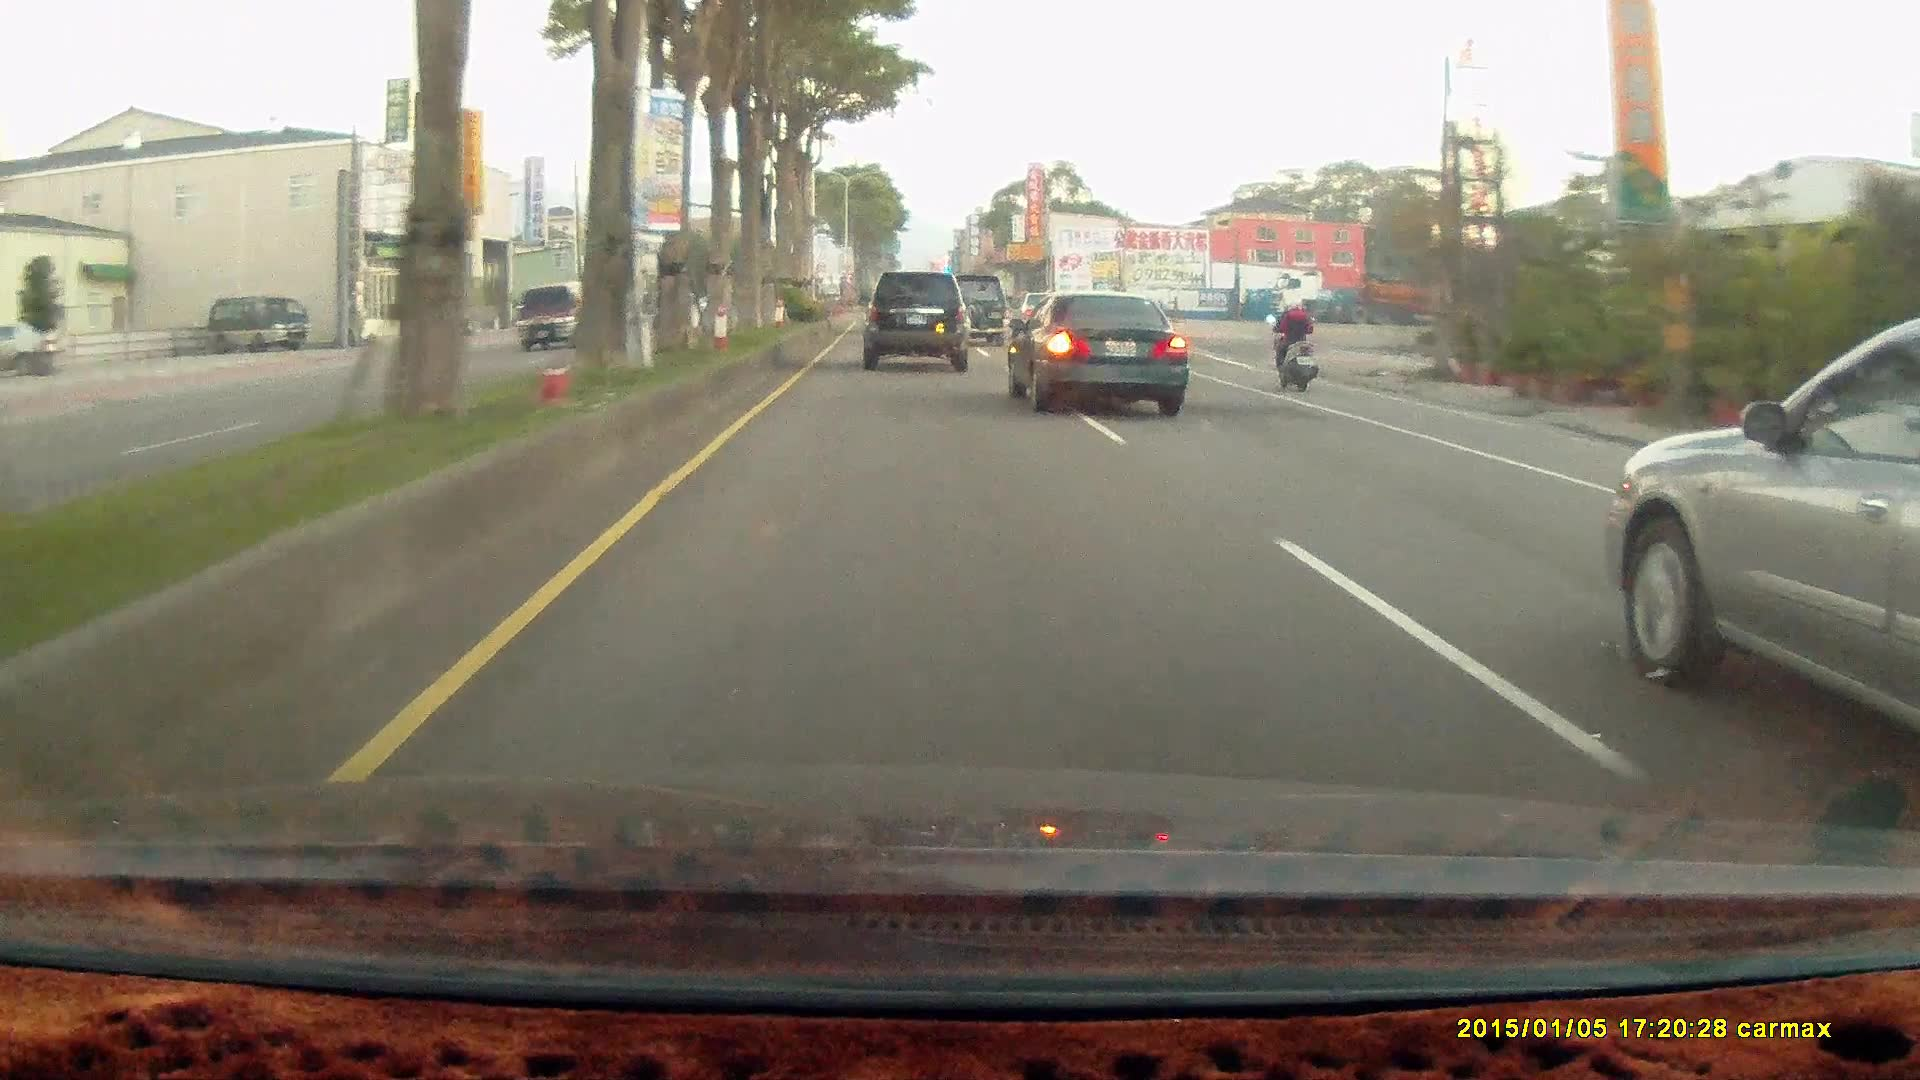rider: (1257, 285, 1330, 399), (1266, 289, 1320, 391)
vehicle: (1604, 310, 1919, 762), (1006, 288, 1193, 412), (1006, 290, 1189, 417), (1275, 264, 1516, 321), (861, 267, 974, 370), (858, 270, 967, 369), (206, 295, 308, 352), (206, 295, 309, 350), (514, 284, 591, 352), (944, 272, 1012, 347)
